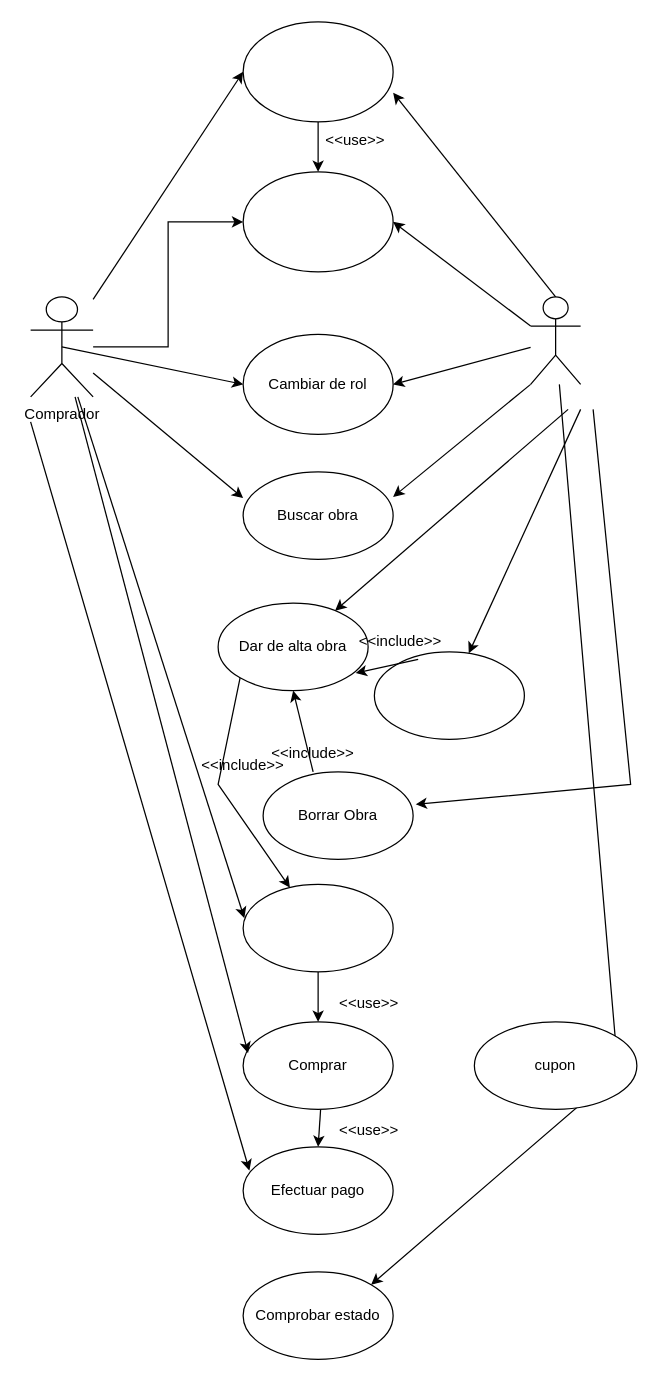
This 663x1381 diagram has some shape labels left out. The shapes that lost their labels are listed below. From the top down, each one's box as (x1, y1, x2, y2) in pixels, then its label:
(242, 21, 393, 122): Darse de alta
(242, 171, 393, 272): Editar perfil
(529, 296, 581, 384): Vendedor
(373, 651, 524, 739): Modificar/editar obra
(242, 883, 393, 972): Gestionar carrito
